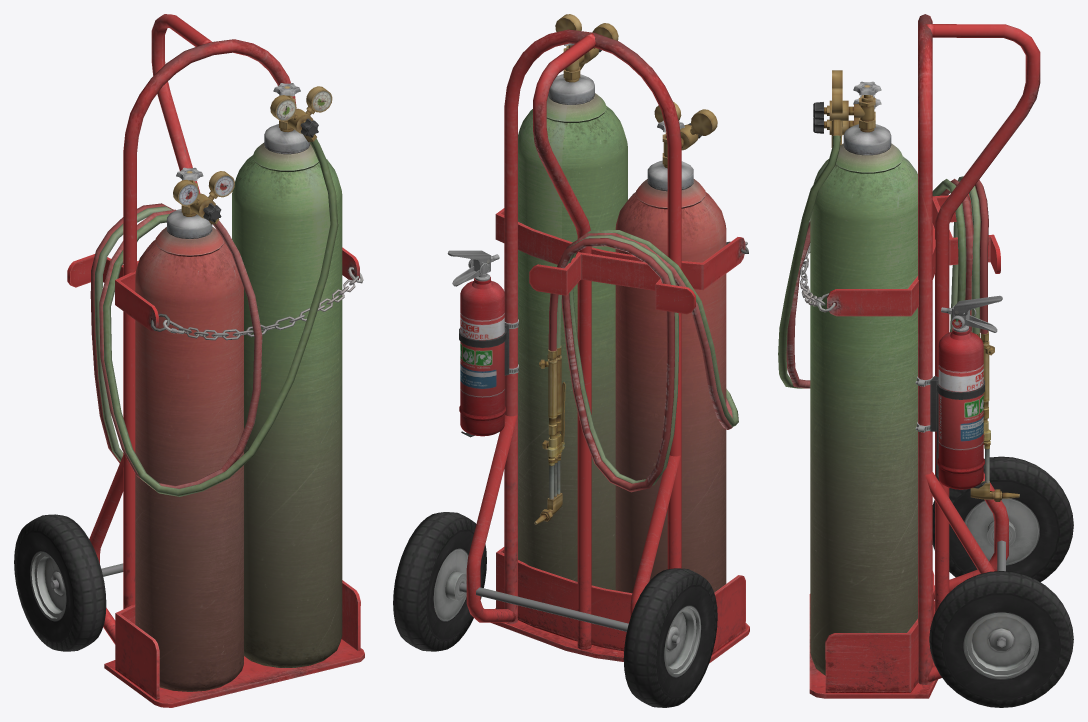
The model's file is oxyacetylenecart2.FBX.
The picture shows the model from 3 angles, left to right: view 1: azimuth 30°, elevation 25°; view 2: azimuth 150°, elevation 25°; view 3: azimuth 270°, elevation 25°; orthographic projection. The views are drawn at different scales.
Visible parts, largest first — view 1: oxyacetylenecart2.012, oxyacetylenecart2.013, oxyacetylenecart2.010, oxyacetylenecart2.005, oxyacetylenecart2.028, oxyacetylenecart2.027, oxyacetylenecart2.003, oxyacetylenecart2.002, oxyacetylenecart2.004, oxyacetylenecart2.008, oxyacetylenecart2.006, oxyacetylenecart2.026 (+2 smaller); view 2: oxyacetylenecart2.012, oxyacetylenecart2.013, oxyacetylenecart2.005, oxyacetylenecart2.010, oxyacetylenecart2.011, oxyacetylenecart2.004, oxyacetylenecart2_extinguisher, oxyacetylenecart2.003, oxyacetylenecart2.027, oxyacetylenecart2.026, oxyacetylenecart2.028, oxyacetylenecart2.008 (+7 smaller); view 3: oxyacetylenecart2.012, oxyacetylenecart2.011, oxyacetylenecart2.010, oxyacetylenecart2.005, oxyacetylenecart2_extinguisher, oxyacetylenecart2.004, oxyacetylenecart2.003, oxyacetylenecart2.028, oxyacetylenecart2.027, oxyacetylenecart2.008, oxyacetylenecart2.007, oxyacetylenecart2.002 (+5 smaller).
Part boxes in pixels (x1,y1,x2,y2): oxyacetylenecart2.012: (232,124,342,667); oxyacetylenecart2.013: (135,209,243,691); oxyacetylenecart2.010: (14,514,106,651); oxyacetylenecart2.005: (123,39,295,609); oxyacetylenecart2.028: (94,134,338,496); oxyacetylenecart2.027: (90,203,262,489); oxyacetylenecart2.003: (115,580,360,699); oxyacetylenecart2.002: (104,639,364,707); oxyacetylenecart2.004: (151,14,211,193); oxyacetylenecart2.008: (115,247,359,331); oxyacetylenecart2.006: (89,455,123,644); oxyacetylenecart2.026: (67,254,138,287); oxyacetylenecart2.012: (518,74,627,590); oxyacetylenecart2.013: (615,160,726,593); oxyacetylenecart2.005: (504,29,681,623); oxyacetylenecart2.010: (623,568,717,707); oxyacetylenecart2.011: (393,512,486,651); oxyacetylenecart2.004: (533,33,595,649); oxyacetylenecart2_extinguisher: (447,250,505,436); oxyacetylenecart2.003: (496,547,745,654); oxyacetylenecart2.027: (548,233,732,492); oxyacetylenecart2.026: (529,252,695,314); oxyacetylenecart2.028: (556,63,738,485); oxyacetylenecart2.008: (495,208,745,290); oxyacetylenecart2.012: (810,124,917,675); oxyacetylenecart2.011: (929,571,1073,707); oxyacetylenecart2.010: (932,456,1073,581); oxyacetylenecart2.005: (918,14,932,684); oxyacetylenecart2_extinguisher: (937,295,1002,489); oxyacetylenecart2.004: (926,24,1040,612); oxyacetylenecart2.003: (825,571,934,692); oxyacetylenecart2.028: (778,119,980,388); oxyacetylenecart2.027: (786,136,988,388); oxyacetylenecart2.008: (827,223,935,316); oxyacetylenecart2.007: (925,471,994,681); oxyacetylenecart2.002: (809,594,937,698).
Bounding box in the file's own units: 53.9 × 121 × 52.05.
Materials: 2 (2 with a texture image).
